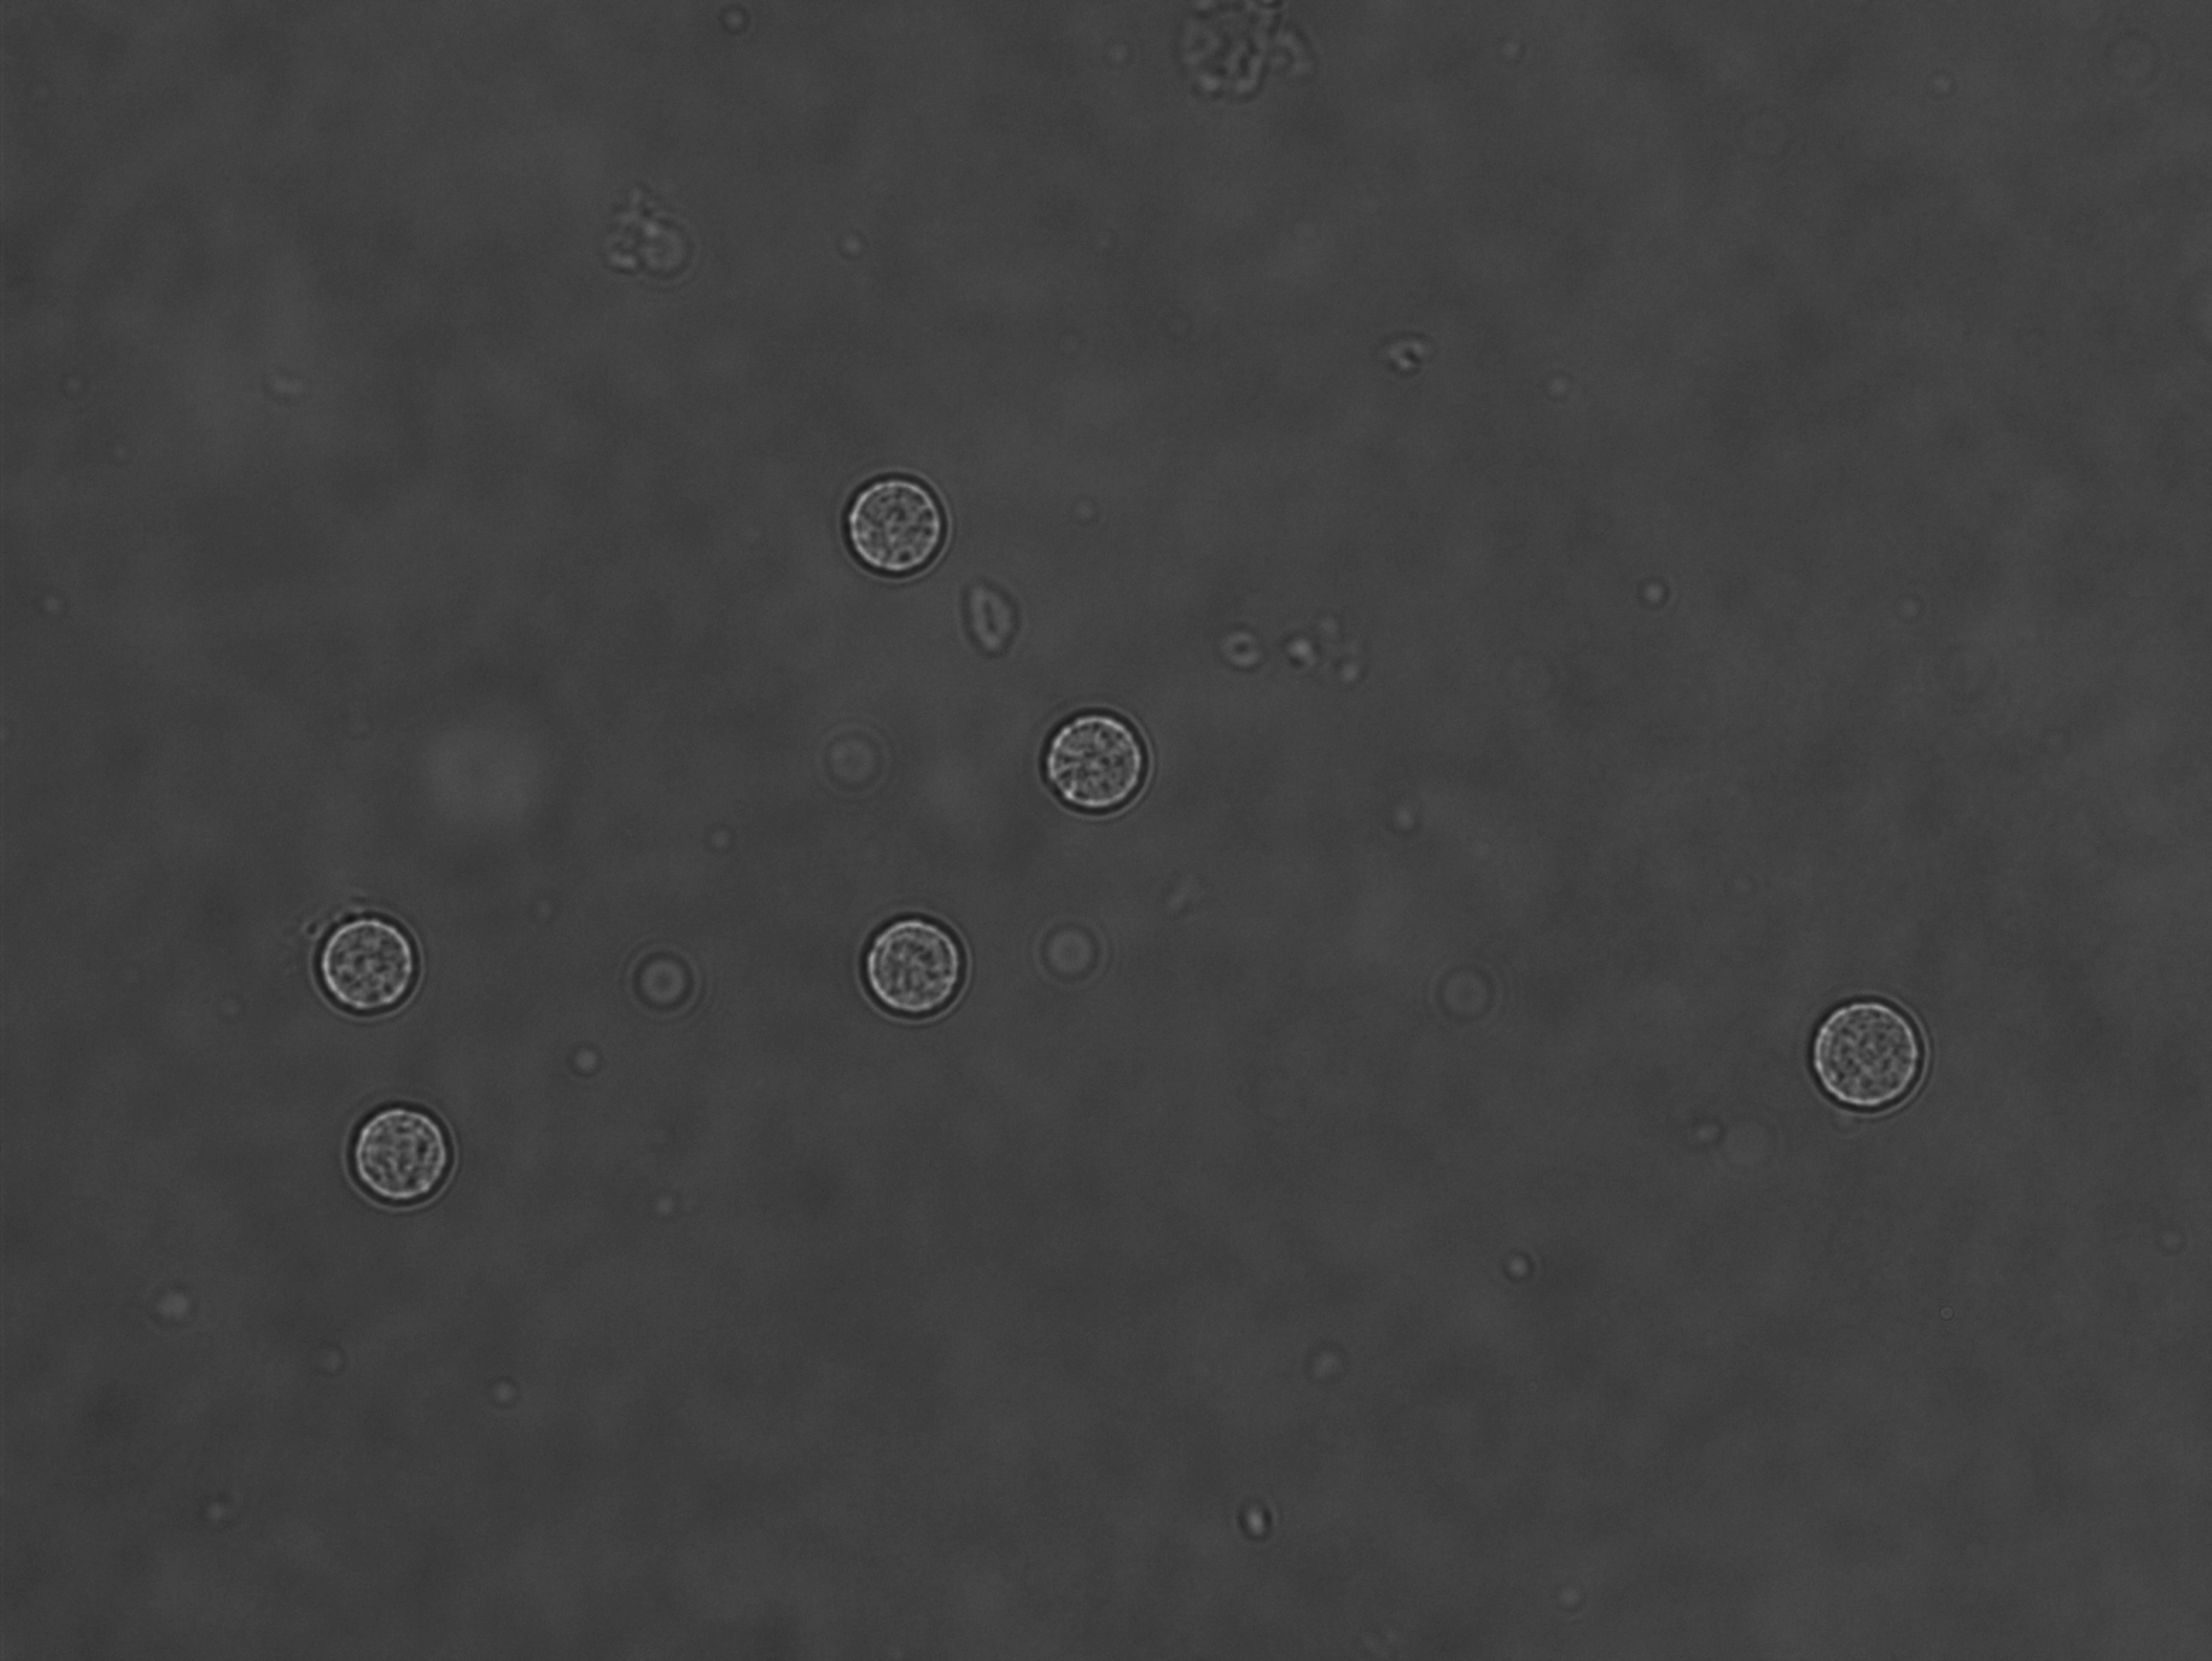depth:0: (827, 885, 980, 1045), (1792, 979, 1938, 1127), (323, 1078, 483, 1213), (298, 888, 450, 1028), (830, 450, 968, 598), (1038, 691, 1160, 834)
